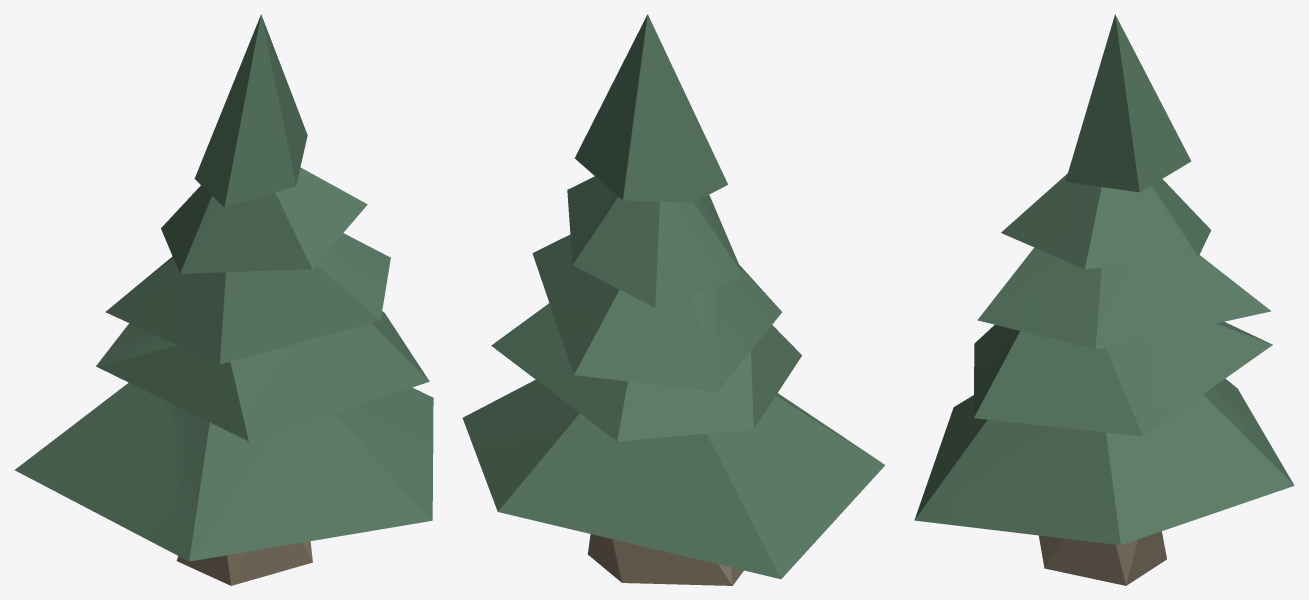
File: Tree_Pine_01.fbx
3 views of the same model, side by side, from view 1: azimuth 30°, elevation 25°; view 2: azimuth 150°, elevation 25°; view 3: azimuth 270°, elevation 25° (orthographic). The views are drawn at different scales.
Parts seen in each view (by area): view 1: Model; view 2: Model; view 3: Model.
Boxes of the visible parts, box(x1,y1,x2,y2) form: Model: box(14, 14, 433, 585); Model: box(462, 14, 885, 585); Model: box(914, 14, 1294, 585).
Size of the model in its own units: 454 by 632 by 399.
